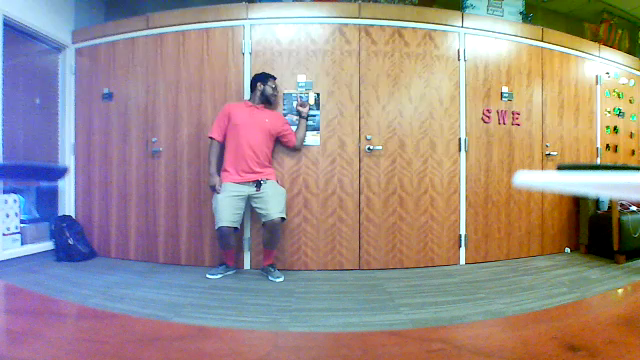up: (291, 89, 314, 120)
